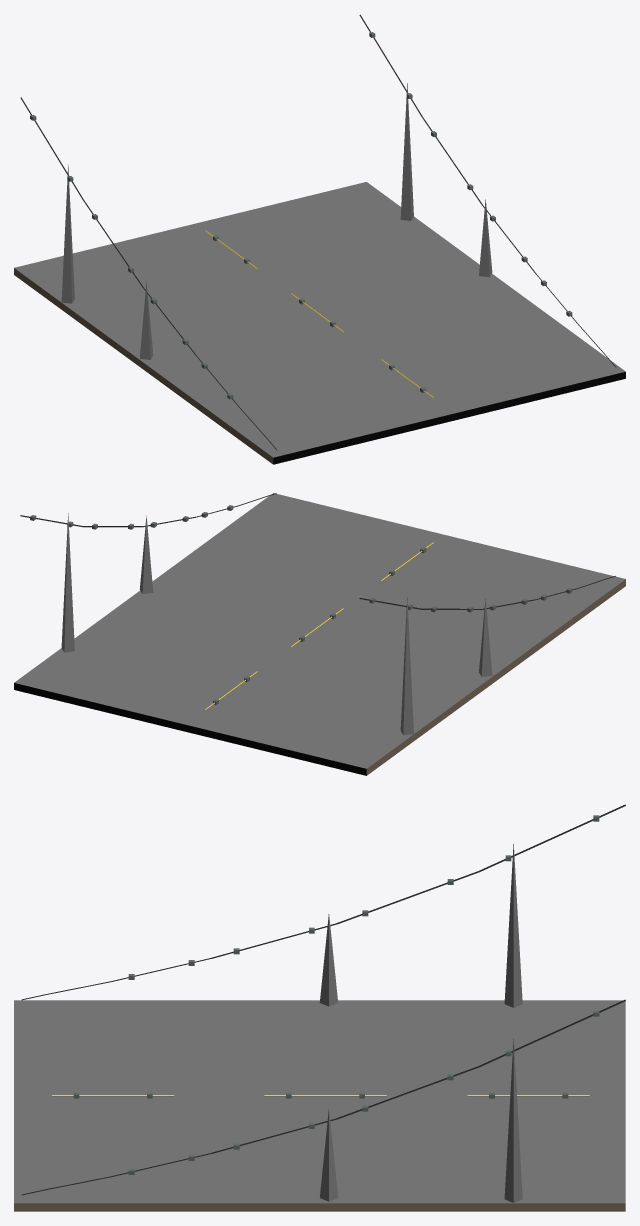
3 renders of one model, top to bottom at view 1: azimuth 30°, elevation 25°; view 2: azimuth 150°, elevation 25°; view 3: azimuth 270°, elevation 25°, orthographic. The views are drawn at different scales.
Visible parts, largest first — view 1: BR85 | archived geometry, BR85 | line, light and sprite surfaces, Fitted street and landscape details; view 2: BR85 | archived geometry, BR85 | line, light and sprite surfaces, Fitted street and landscape details; view 3: BR85 | archived geometry, BR85 | line, light and sprite surfaces, Fitted street and landscape details.
Part boxes in pixels (x1=…): BR85 | archived geometry: x1=14, y1=83, x2=625, y2=464; BR85 | line, light and sprite surfaces: x1=20, y1=14, x2=616, y2=450; Fitted street and landscape details: x1=30, y1=32, x2=572, y2=399; BR85 | archived geometry: x1=14, y1=493, x2=625, y2=775; BR85 | line, light and sprite surfaces: x1=20, y1=493, x2=615, y2=709; Fitted street and landscape details: x1=30, y1=505, x2=572, y2=704; BR85 | archived geometry: x1=14, y1=844, x2=625, y2=1211; BR85 | line, light and sprite surfaces: x1=21, y1=804, x2=625, y2=1195; Fitted street and landscape details: x1=73, y1=815, x2=599, y2=1174.
Bounding box in the file's own units: 13 × 6.21 × 16.57.
